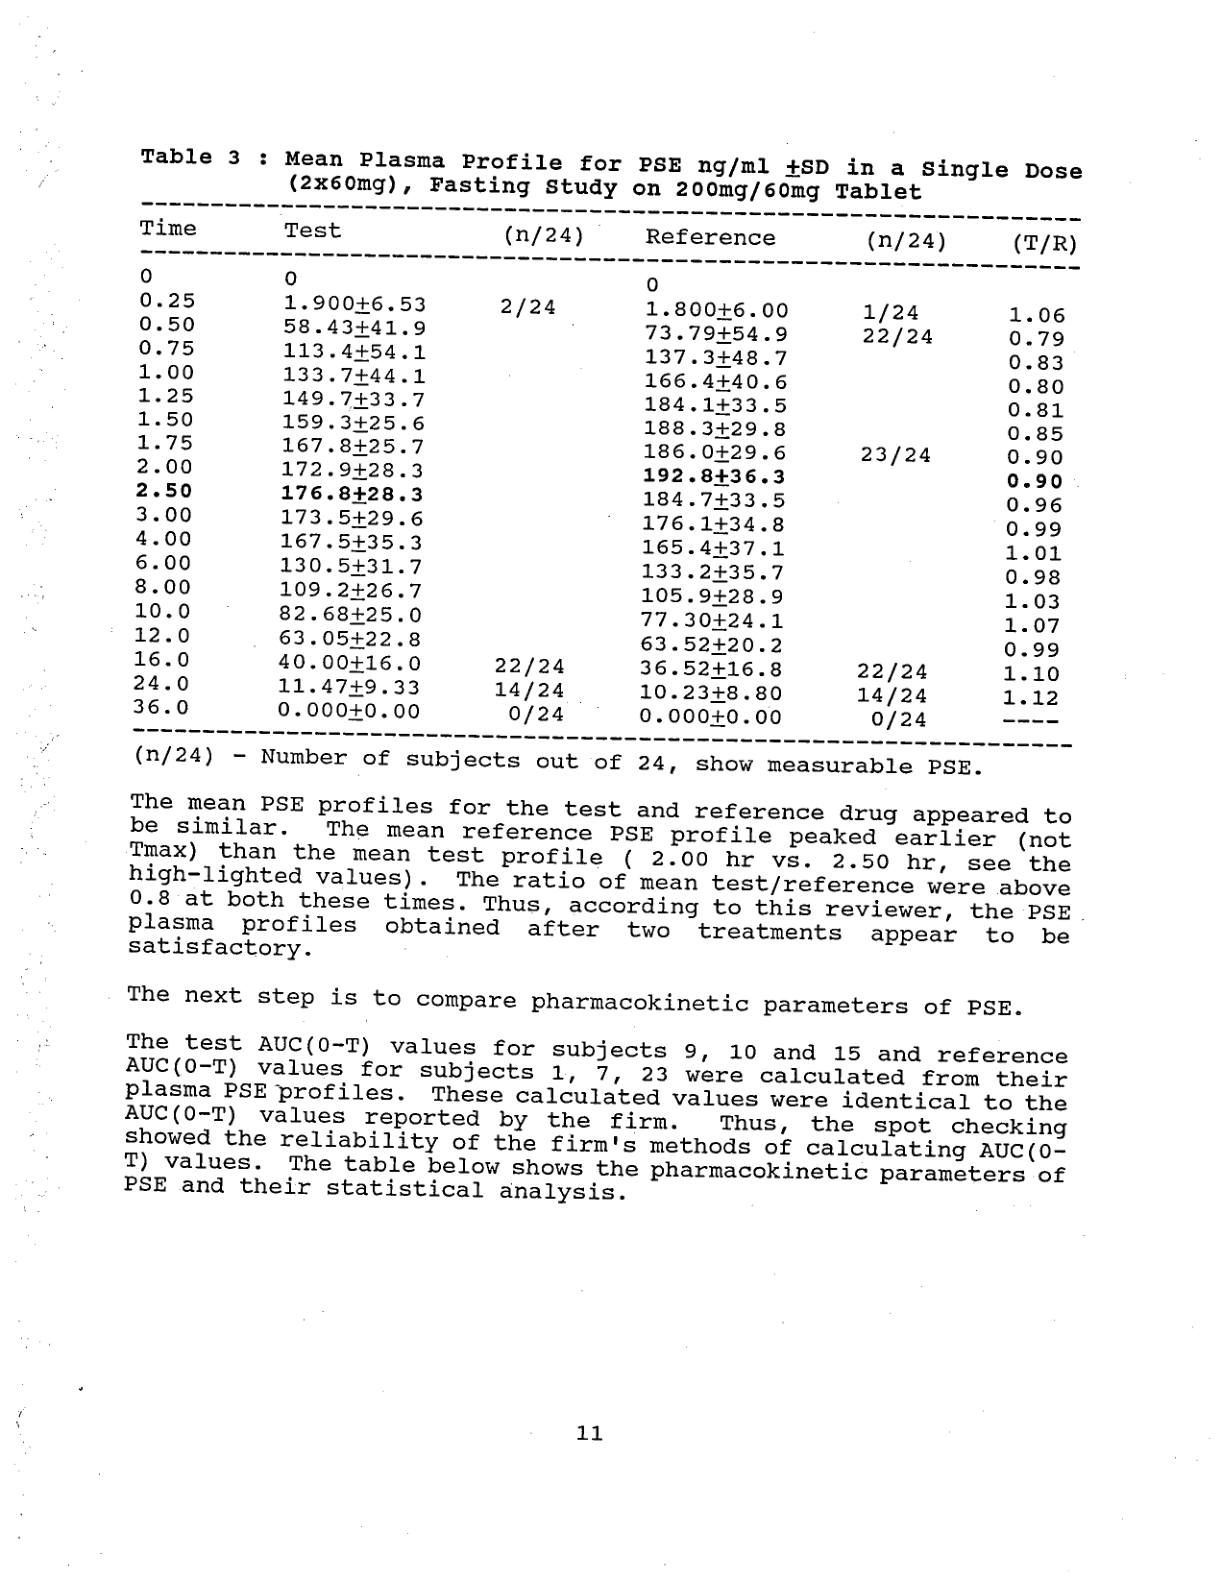partial_lined: (132, 197, 1081, 750)
